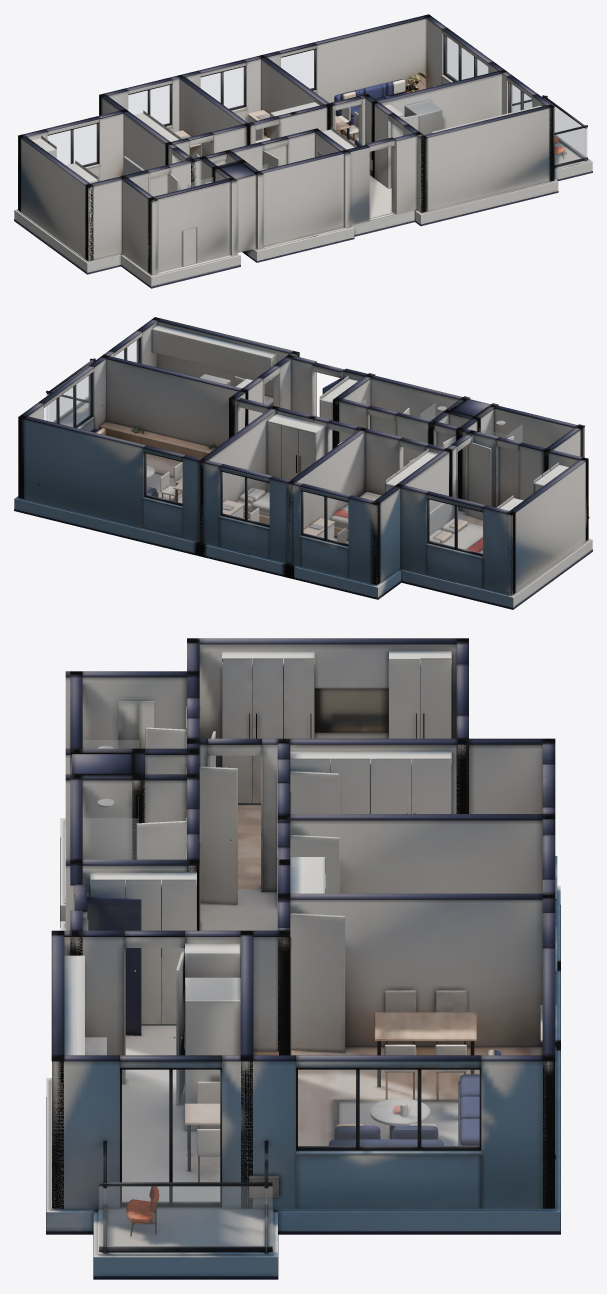
3 views of the same model, one above another, from view 1: azimuth 30°, elevation 25°; view 2: azimuth 150°, elevation 25°; view 3: azimuth 270°, elevation 25° (orthographic). The views are drawn at different scales.
Parts seen in each view (by area): view 1: plan, glass0_m, glass2_m, glass1_m, glass4_m, railg1_m, glass3_m, railg4_m, glass5_m; view 2: plan, glass0_m, glass2_m, glass1_m, glass3_m, glass4_m, railg0_m; view 3: plan, glass4_m, glass5_m, railg4_m, sg.002_m.
Part boxes in pixels (bbox=[...]): plan: bbox=[14, 14, 592, 288]; glass0_m: bbox=[48, 124, 97, 165]; glass2_m: bbox=[201, 67, 244, 108]; glass1_m: bbox=[128, 85, 169, 124]; glass4_m: bbox=[445, 36, 487, 80]; railg1_m: bbox=[555, 128, 587, 164]; glass3_m: bbox=[281, 50, 314, 88]; railg4_m: bbox=[555, 107, 586, 158]; glass5_m: bbox=[510, 83, 531, 112]; plan: bbox=[14, 317, 592, 609]; glass0_m: bbox=[429, 500, 482, 554]; glass2_m: bbox=[222, 472, 269, 524]; glass1_m: bbox=[303, 492, 347, 544]; glass3_m: bbox=[146, 453, 182, 503]; glass4_m: bbox=[44, 374, 90, 426]; railg0_m: bbox=[46, 393, 87, 426]; plan: bbox=[46, 638, 560, 1279]; glass4_m: bbox=[298, 1070, 479, 1146]; glass5_m: bbox=[122, 1070, 219, 1202]; railg4_m: bbox=[99, 1186, 272, 1246]; sg.002_m: bbox=[83, 818, 138, 859].
Size of the model in its own units: 15.46 by 2.62 by 7.13.
2 materials, 1 textured.
